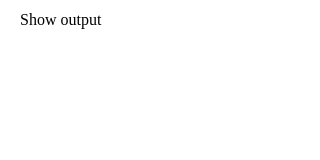
Test: a summary given as a function gets whether the disclosure is open
What coordinates should you click on to do the following:
click the heading "Show output"
I would click on:
 (55, 20)
Its box is [8,11,101,28].
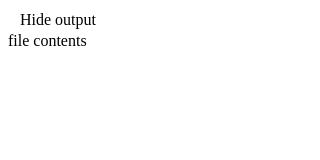
Result: the heading "Hide output" is shown at [8,11,96,28]
